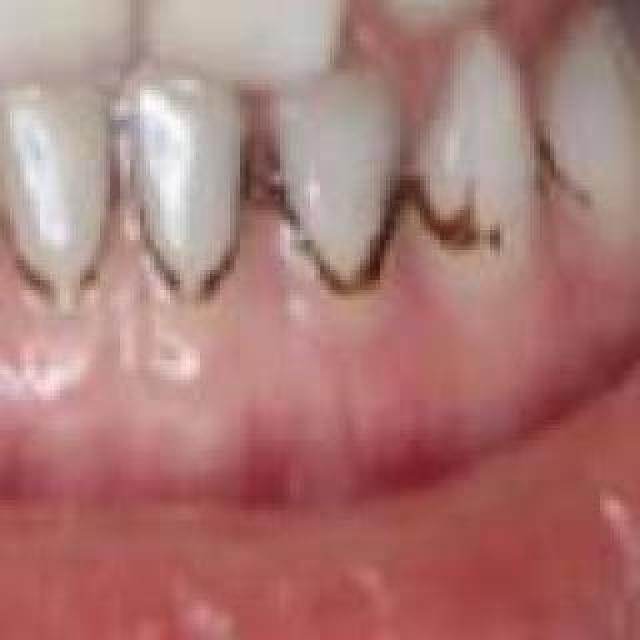spacing: (229, 92, 309, 208), (381, 71, 461, 183), (314, 0, 398, 32), (0, 78, 18, 224)
stains: (255, 156, 417, 332), (0, 142, 128, 332), (124, 169, 256, 339), (410, 152, 530, 284), (523, 103, 625, 239)
